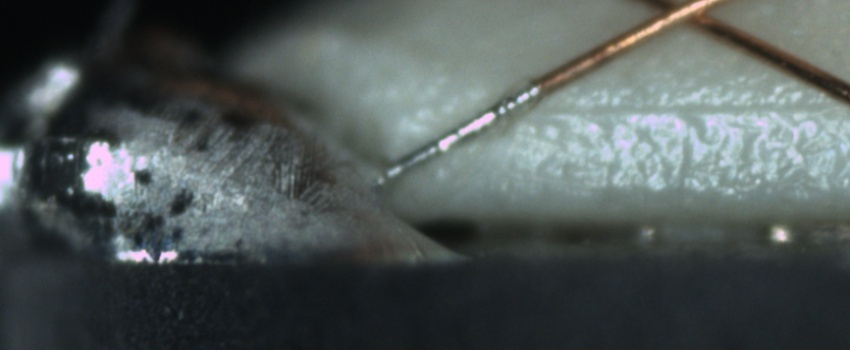CL: (626, 0, 736, 39)
DL: (549, 76, 849, 137)
TS: (380, 82, 541, 183)
